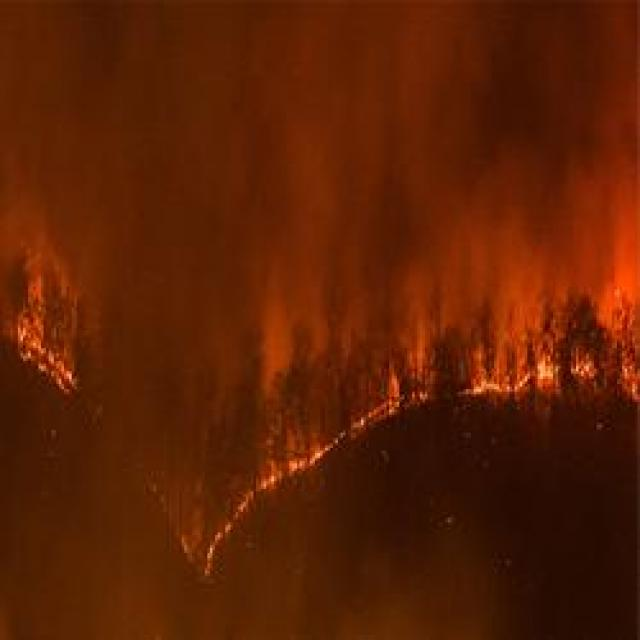fire: (17, 252, 89, 402), (472, 351, 608, 396), (246, 442, 330, 492), (604, 289, 640, 397)
smoke: (2, 186, 117, 276), (358, 3, 444, 108), (368, 576, 484, 640), (78, 566, 170, 638), (496, 230, 546, 358), (290, 132, 345, 238), (599, 172, 640, 299), (259, 301, 300, 393), (395, 281, 433, 379)
